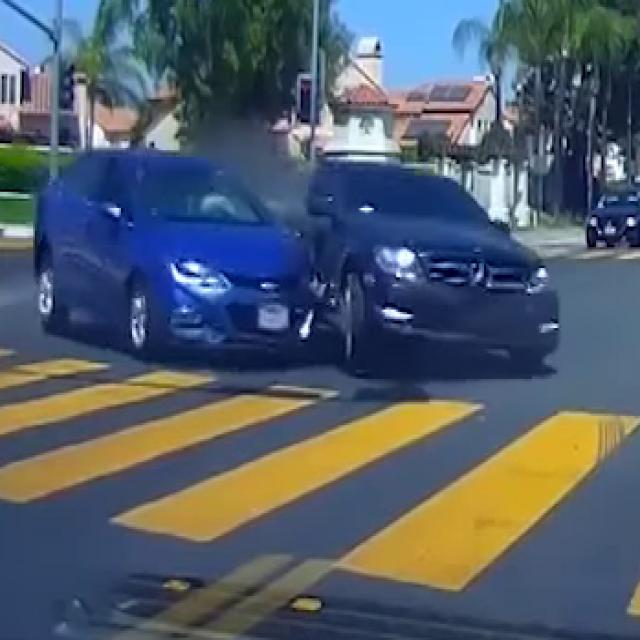accident: (41, 147, 570, 396)
